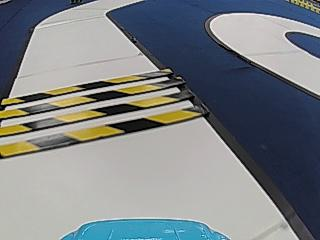bump: (0, 66, 207, 158)
